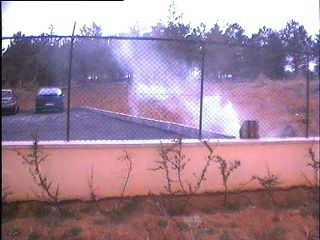smoke: (107, 27, 245, 138)
